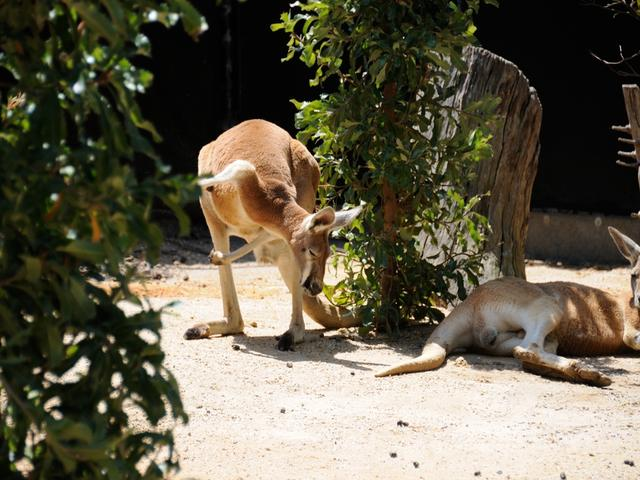kangaroo: (148, 114, 369, 348), (408, 211, 640, 383)
